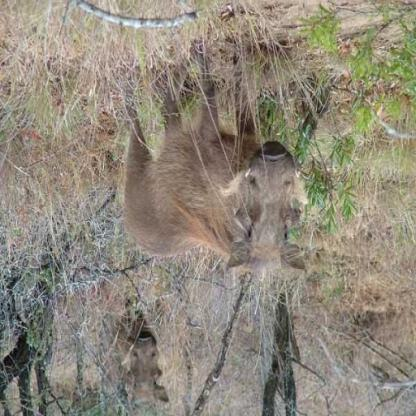boar: (126, 87, 326, 297)
